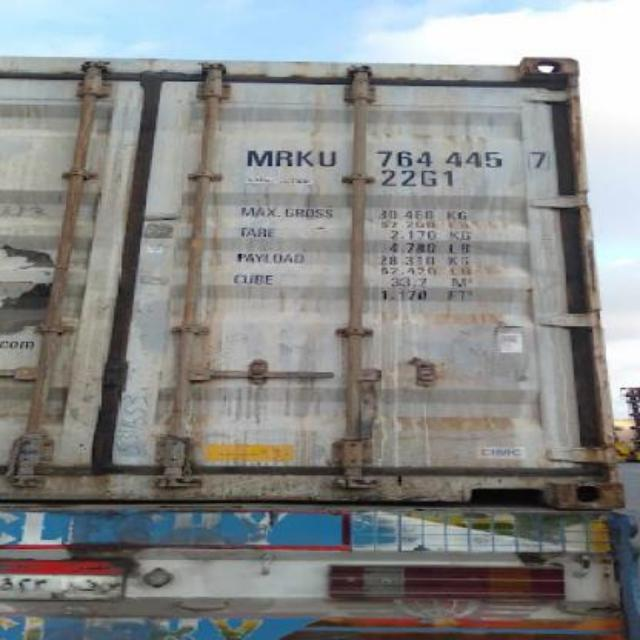4: (462, 151, 484, 167), (414, 151, 434, 167), (444, 152, 464, 166)
5: (484, 151, 502, 167)
6: (396, 150, 414, 166)
7: (374, 149, 396, 167), (530, 151, 546, 167)
K: (294, 149, 318, 167)
M: (246, 149, 276, 167)
R: (272, 149, 296, 167)
U: (318, 150, 340, 166)
